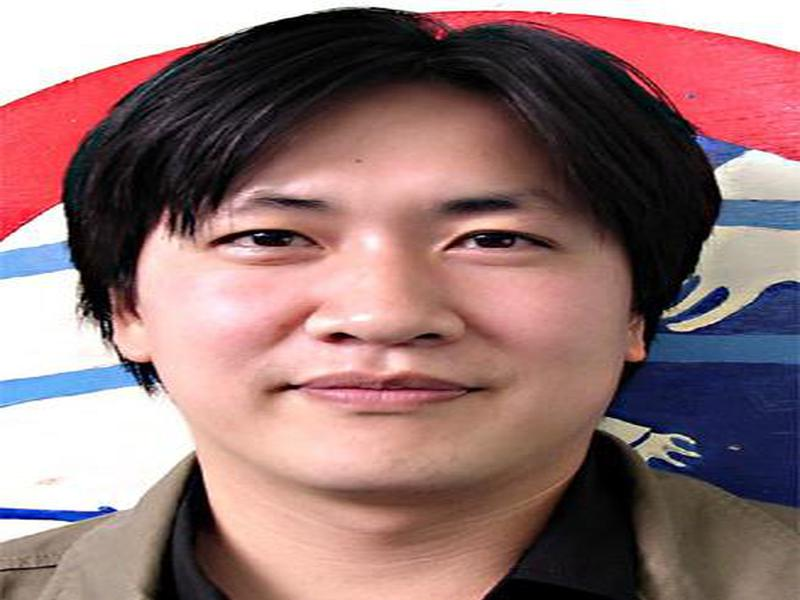without_mask: (144, 140, 608, 491)
